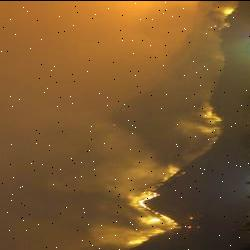fire: (119, 168, 192, 250), (188, 96, 221, 146), (216, 0, 248, 22)
